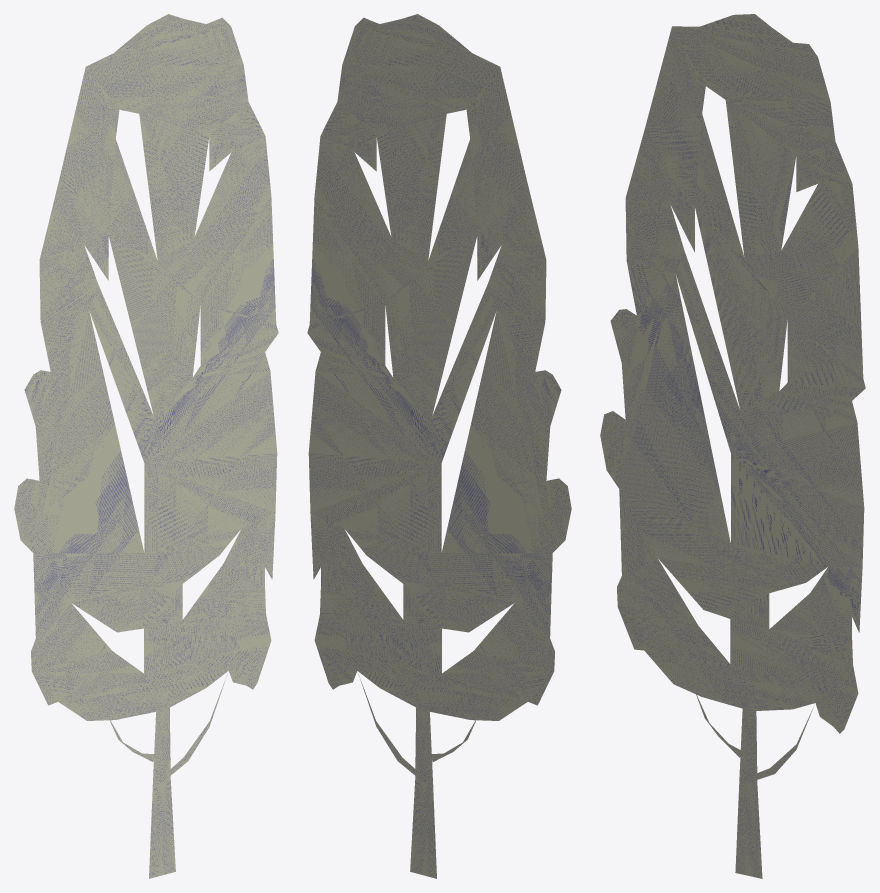
Rendered from Betula-tree.dae.
3 views of the same model, side by side, from view 1: azimuth 30°, elevation 25°; view 2: azimuth 150°, elevation 25°; view 3: azimuth 330°, elevation 25° (orthographic).
Visible parts, largest first — view 1: SketchUp; view 2: SketchUp; view 3: SketchUp.
Boxes of the visible parts, <box> form: SketchUp: <box>14,14,278,878</box>; SketchUp: <box>307,14,571,878</box>; SketchUp: <box>600,14,865,878</box>.
Size of the model in its own units: 116 by 7.14e-14 by 360.
